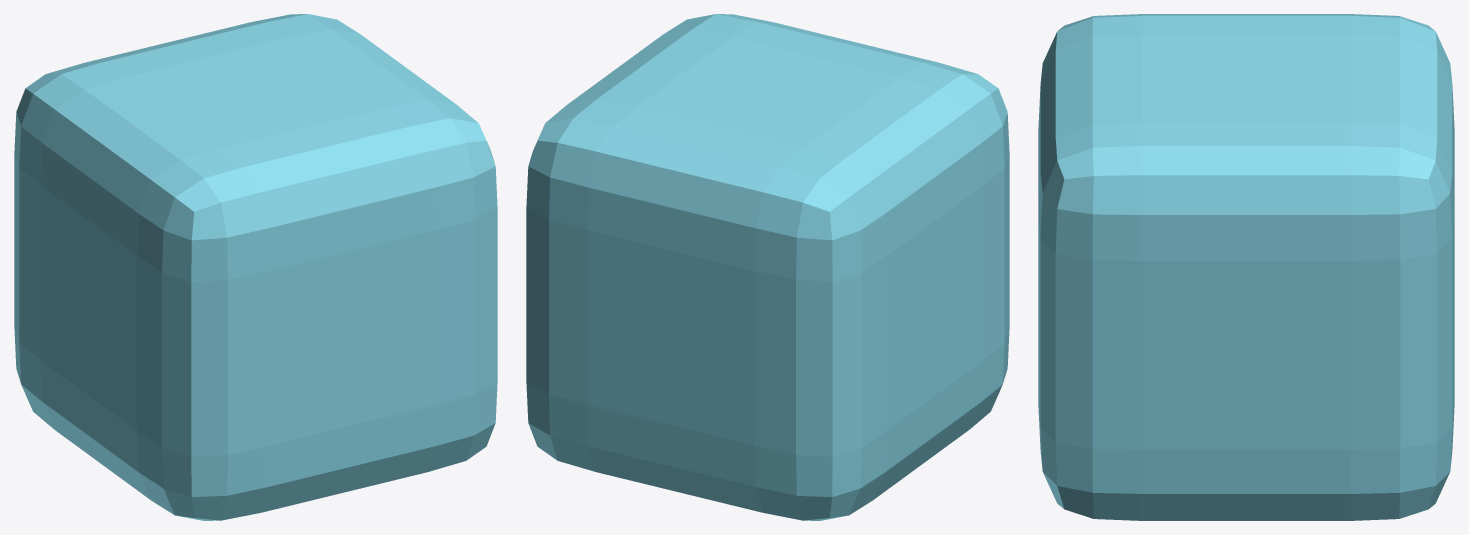
File: iceCube4.fbx
3 views of the same model, side by side, from view 1: azimuth 30°, elevation 25°; view 2: azimuth 150°, elevation 25°; view 3: azimuth 270°, elevation 25° (orthographic). The views are drawn at different scales.
Visible parts, largest first — view 1: cube_100HP; view 2: cube_100HP; view 3: cube_100HP.
Boxes of the visible parts, x1=… form: cube_100HP: x1=14, y1=14, x2=497, y2=520; cube_100HP: x1=526, y1=14, x2=1009, y2=520; cube_100HP: x1=1038, y1=14, x2=1454, y2=520.
Size of the model in its own units: 100 by 100 by 100.
